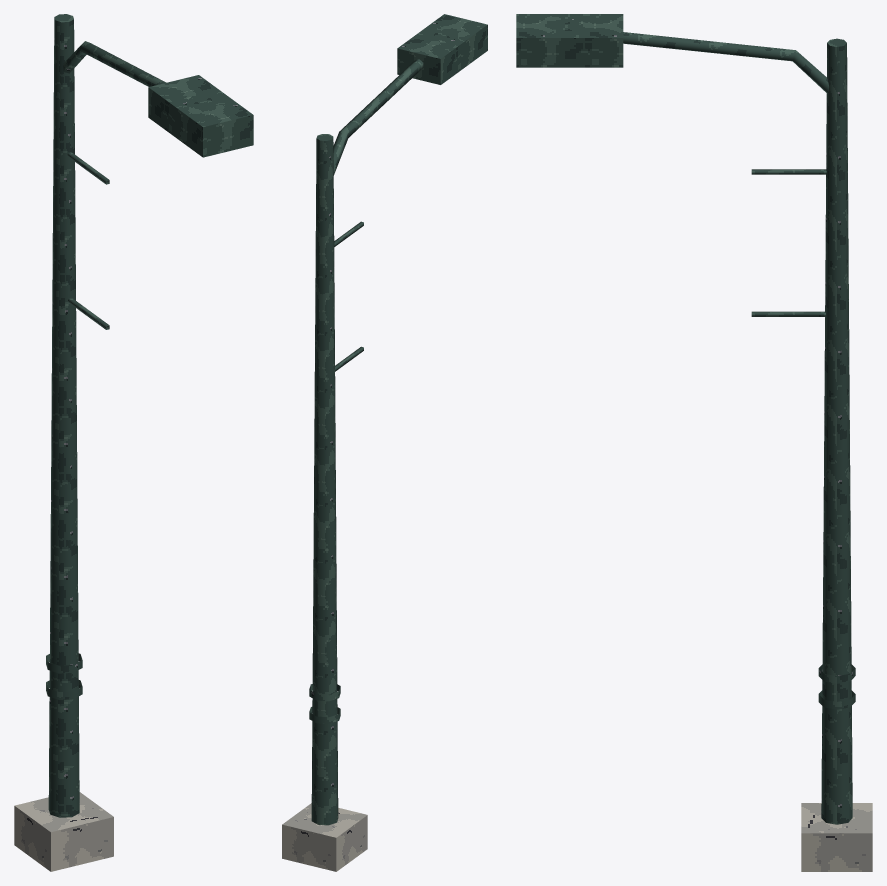
Rendered from SP_Lamp_Commercial.obj.
The picture shows the model from 3 angles, left to right: view 1: azimuth 30°, elevation 25°; view 2: azimuth 150°, elevation 25°; view 3: azimuth 270°, elevation 25°; orthographic projection. The views are drawn at different scales.
Parts seen in each view (by area): view 1: SP_Lamp_Commercial_Mesh_M_Town_PaintGreen, SP_Lamp_Commercial_Mesh_M_Road_CurbConcrete; view 2: SP_Lamp_Commercial_Mesh_M_Town_PaintGreen, SP_Lamp_Commercial_Mesh_M_Road_CurbConcrete; view 3: SP_Lamp_Commercial_Mesh_M_Town_PaintGreen, SP_Lamp_Commercial_Mesh_M_Road_CurbConcrete.
Part boxes in pixels (left/top/right/bottom): SP_Lamp_Commercial_Mesh_M_Town_PaintGreen: left=46, top=14, right=253, bottom=817; SP_Lamp_Commercial_Mesh_M_Road_CurbConcrete: left=14, top=792, right=113, bottom=871; SP_Lamp_Commercial_Mesh_M_Town_PaintGreen: left=309, top=14, right=487, bottom=825; SP_Lamp_Commercial_Mesh_M_Road_CurbConcrete: left=282, top=803, right=367, bottom=871; SP_Lamp_Commercial_Mesh_M_Town_PaintGreen: left=516, top=14, right=855, bottom=824; SP_Lamp_Commercial_Mesh_M_Road_CurbConcrete: left=801, top=803, right=872, bottom=871.
Size of the model in its own units: 0.5 by 6.43 by 2.5.
3 materials, 3 textured.
